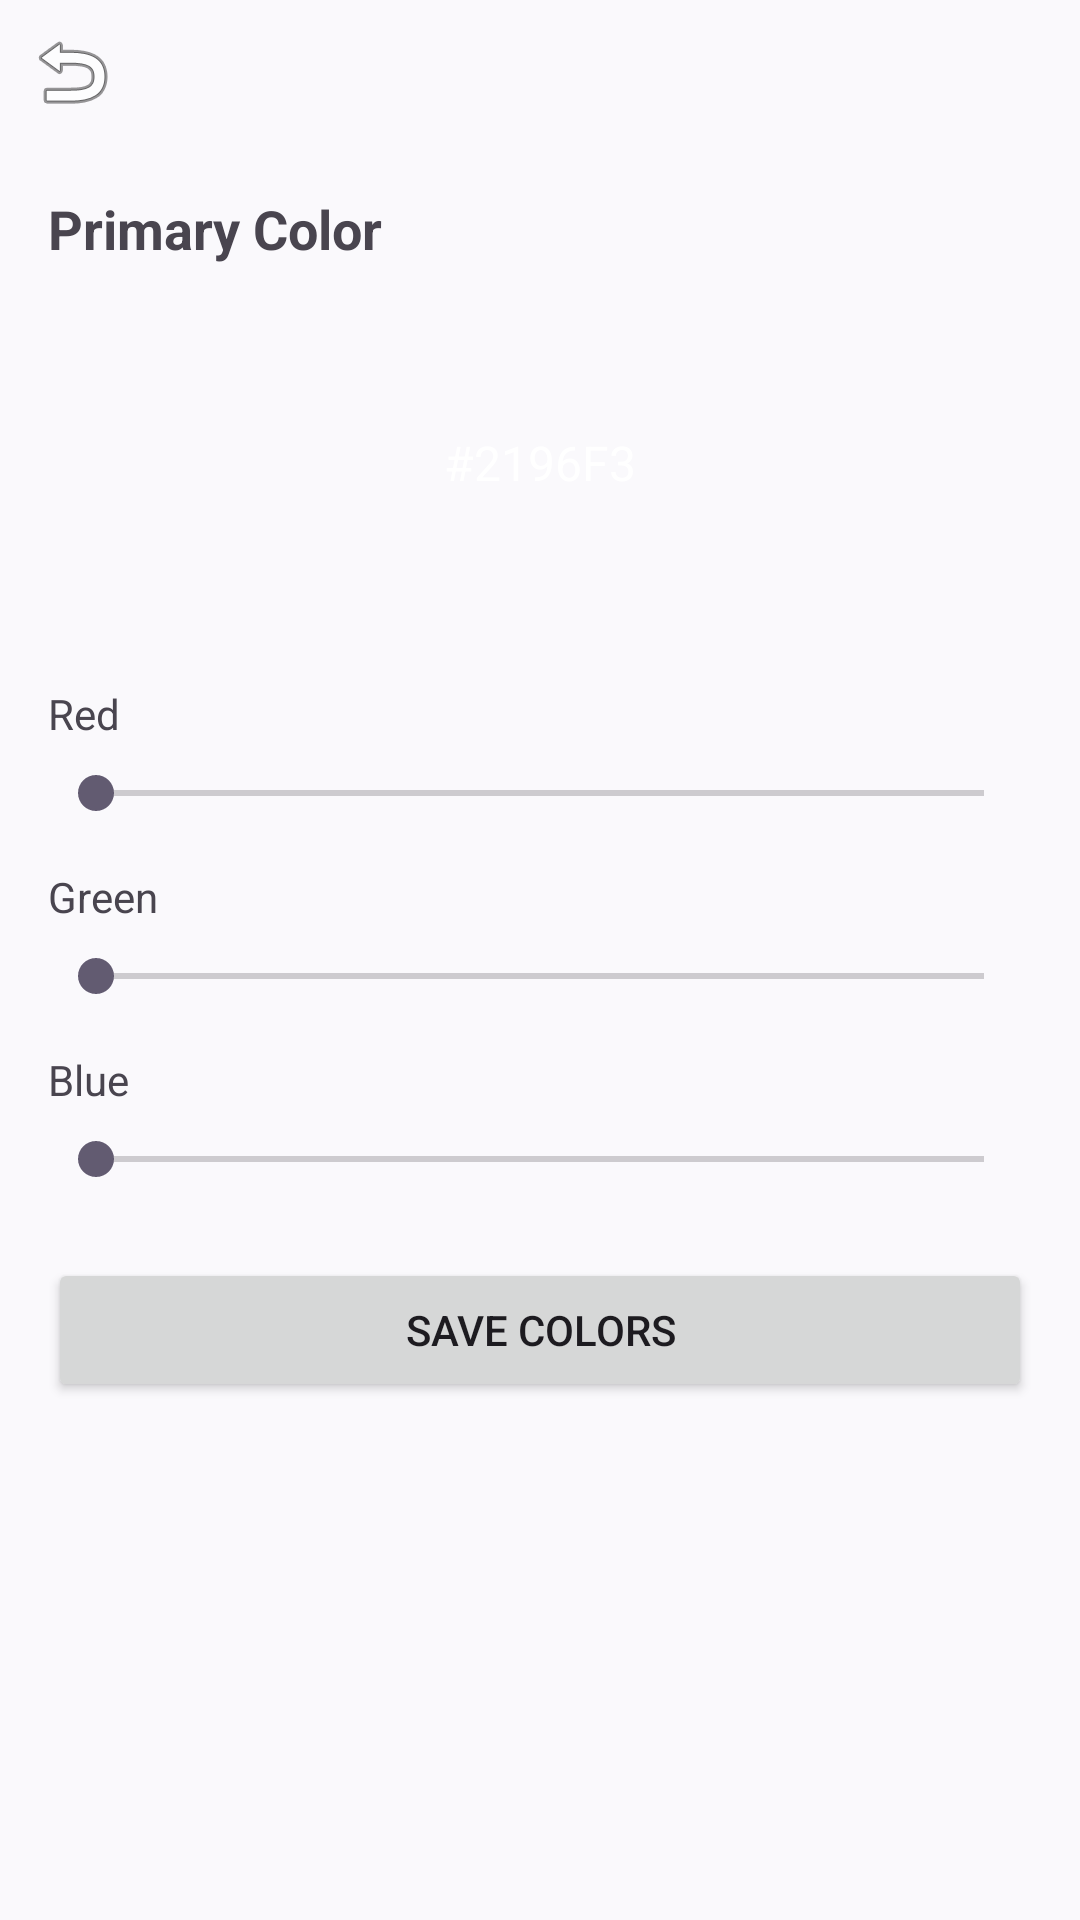

Icon bounding boxes for this 1080px×1920px phone screenshot, format Rect(x1, y1, x2, y2):
Back: Rect(39, 41, 108, 104)
